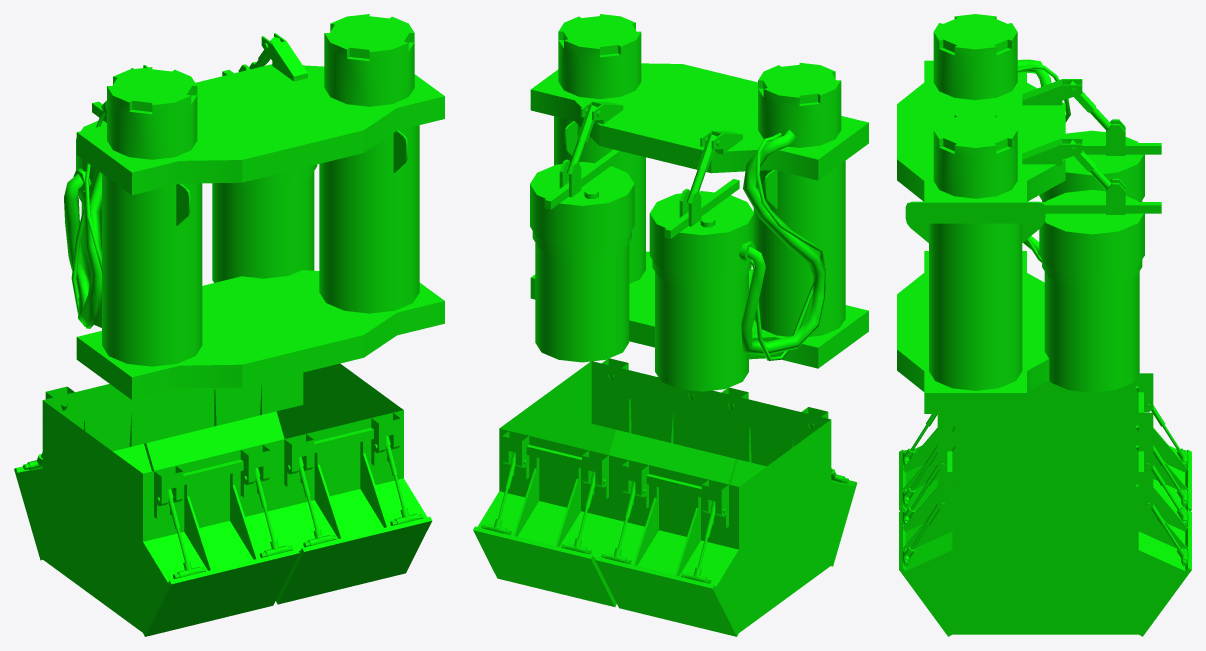
Rendered from Casting_Machine03.fbx.
3 renders of one model, left to right at view 1: azimuth 30°, elevation 25°; view 2: azimuth 150°, elevation 25°; view 3: azimuth 270°, elevation 25°, orthographic. The views are drawn at different scales.
Visible parts, largest first — view 1: Casting_Machine03_LOD0; view 2: Casting_Machine03_LOD0; view 3: Casting_Machine03_LOD0.
Boxes of the visible parts, <box> form: Casting_Machine03_LOD0: <box>14,14,444,636</box>; Casting_Machine03_LOD0: <box>473,14,868,636</box>; Casting_Machine03_LOD0: <box>897,14,1191,636</box>.
Size of what is drawn, in the model's own units: 360 by 588 by 316.
